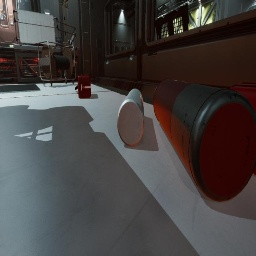0: (117, 88, 144, 146), (7, 45, 14, 48)
FirstAidBox ,: (229, 82, 256, 176), (75, 75, 91, 98)
NitrogenTank ,: (153, 78, 256, 202), (30, 43, 44, 46)
SafetySwitchPanel ,: (44, 9, 50, 15)
